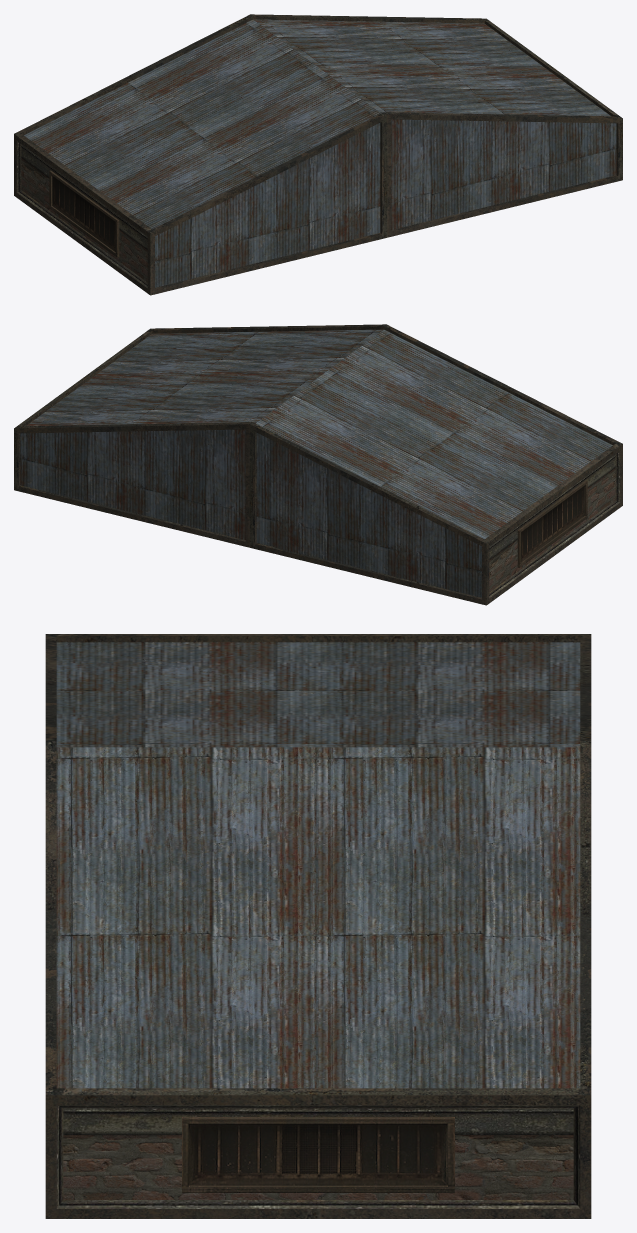
The model's file is roof_mh_4_a_1.obj.
The picture shows the model from 3 angles, top to bottom: view 1: azimuth 30°, elevation 25°; view 2: azimuth 150°, elevation 25°; view 3: azimuth 270°, elevation 25°; orthographic projection. The views are drawn at different scales.
Visible parts, largest first — view 1: roof_mh_4_a_1; view 2: roof_mh_4_a_1; view 3: roof_mh_4_a_1.
Part boxes in pixels (x1,y1,x2,y2): roof_mh_4_a_1: (14,14,622,295); roof_mh_4_a_1: (14,324,622,605); roof_mh_4_a_1: (45,634,591,1218).
Size of the model in its own units: 8 by 2 by 4.
